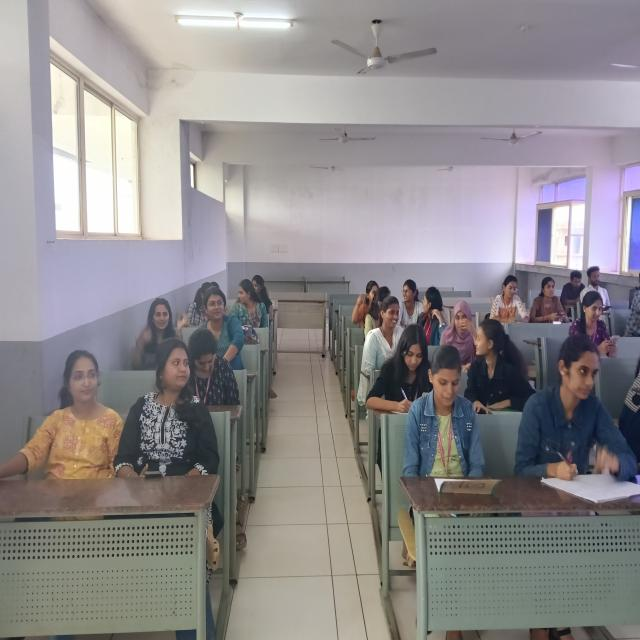Using Phone: (118, 336, 220, 484), (185, 328, 242, 411), (569, 292, 625, 357), (530, 274, 568, 328)
Writing: (511, 332, 639, 494), (365, 322, 430, 414), (488, 273, 531, 327)
